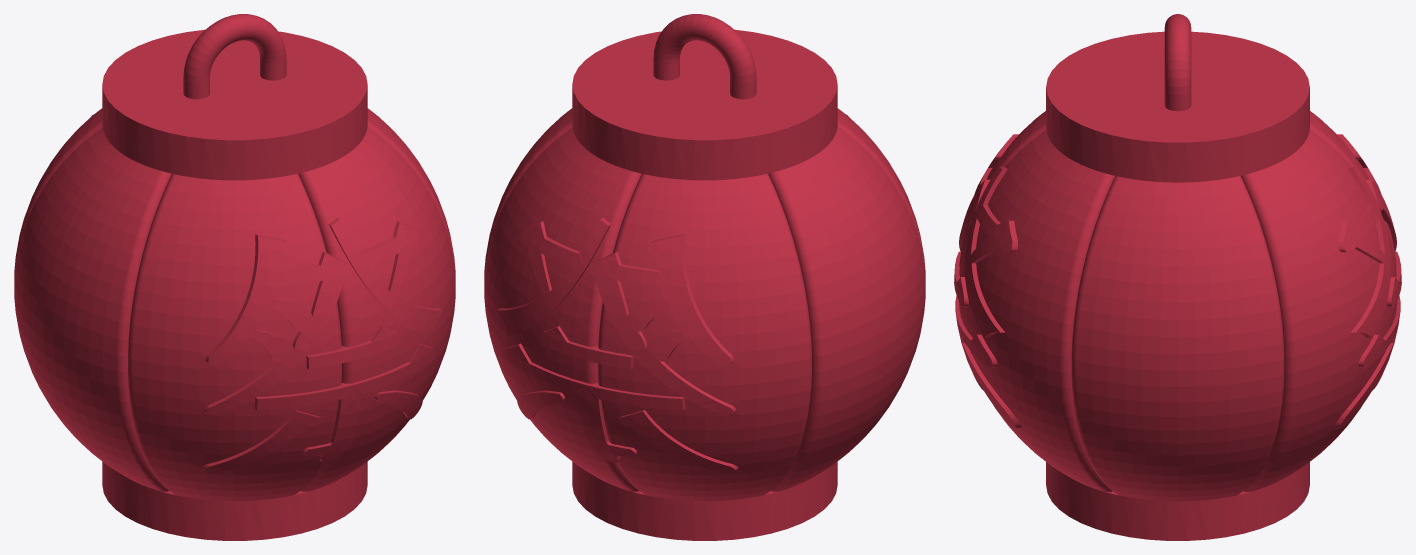
The model's file is chochin.dae.
The picture shows the model from 3 angles, left to right: view 1: azimuth 30°, elevation 25°; view 2: azimuth 150°, elevation 25°; view 3: azimuth 270°, elevation 25°; orthographic projection.
Parts seen in each view (by area): view 1: 祭り; view 2: 祭り; view 3: 祭り.
Part boxes in pixels (x1=…): 祭り: x1=14, y1=14, x2=455, y2=540; 祭り: x1=484, y1=14, x2=925, y2=540; 祭り: x1=954, y1=14, x2=1401, y2=540.
Size of the model in its own units: 49.96 by 58.5 by 50.93.
